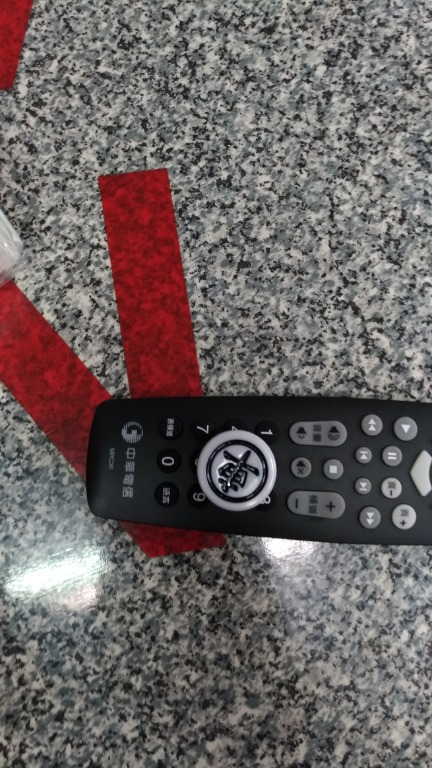b-king: (183, 417, 308, 531)
